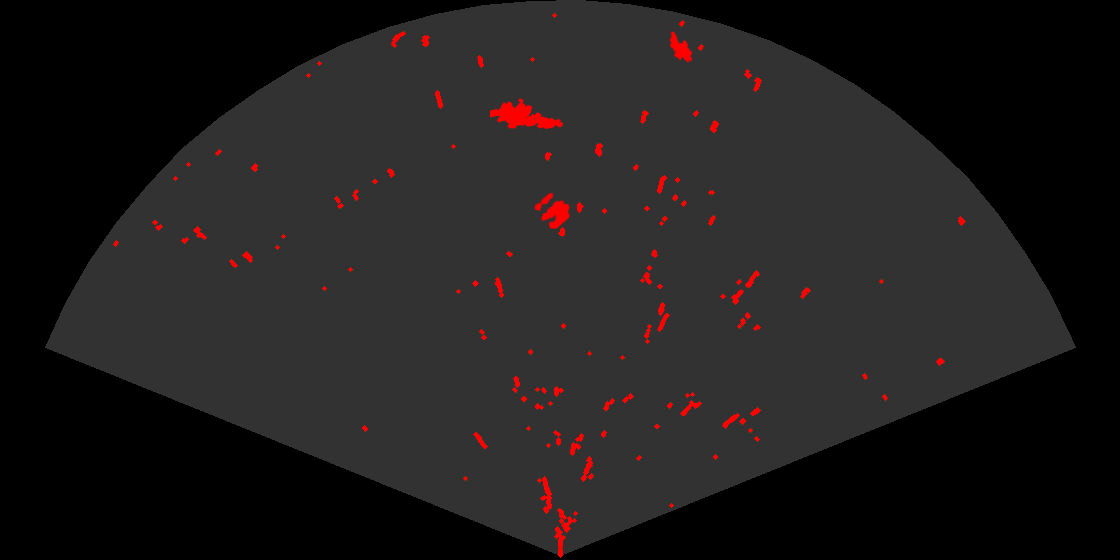AUV: (668, 30, 694, 64)
ball: (533, 191, 572, 231)
frogman: (490, 96, 565, 131)
